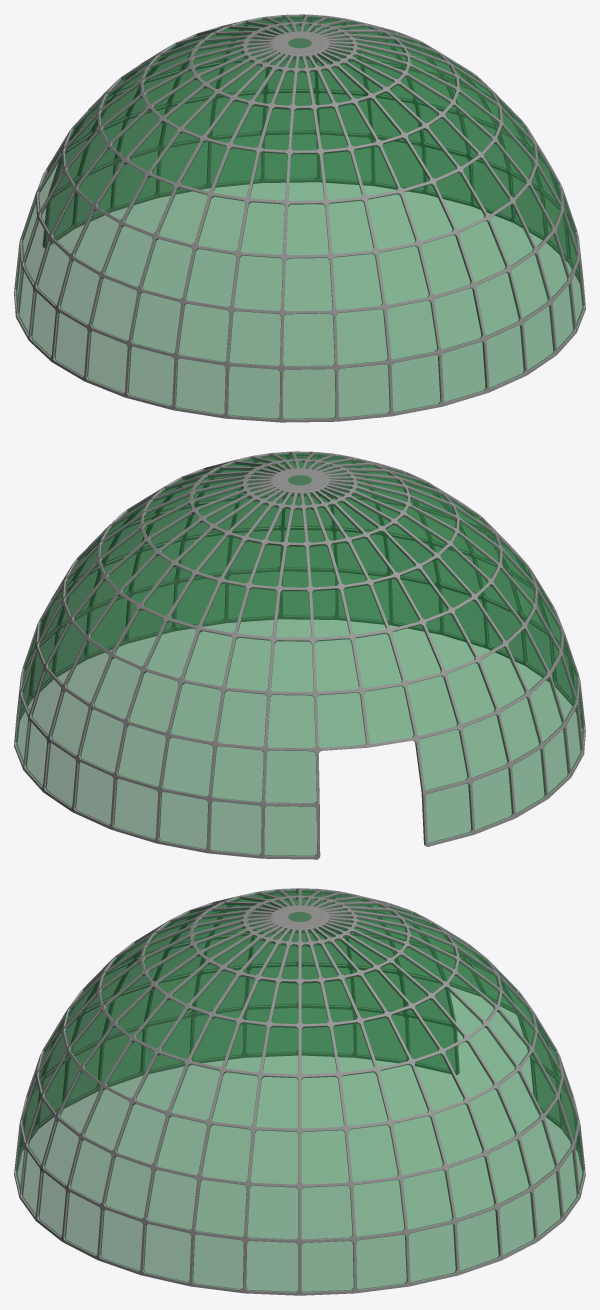
Rendered from habitat_dome.glb.
3 renders of one model, top to bottom at view 1: azimuth 30°, elevation 25°; view 2: azimuth 150°, elevation 25°; view 3: azimuth 270°, elevation 25°, orthographic.
Parts seen in each view (by area): view 1: Sphere; view 2: Sphere; view 3: Sphere.
Boxes of the visible parts, x1,y1,x2,y2 form: Sphere: [14, 14, 585, 422]; Sphere: [14, 451, 585, 859]; Sphere: [14, 888, 585, 1295].
Bounding box in the file's own units: 5.97 × 2.99 × 5.97.
